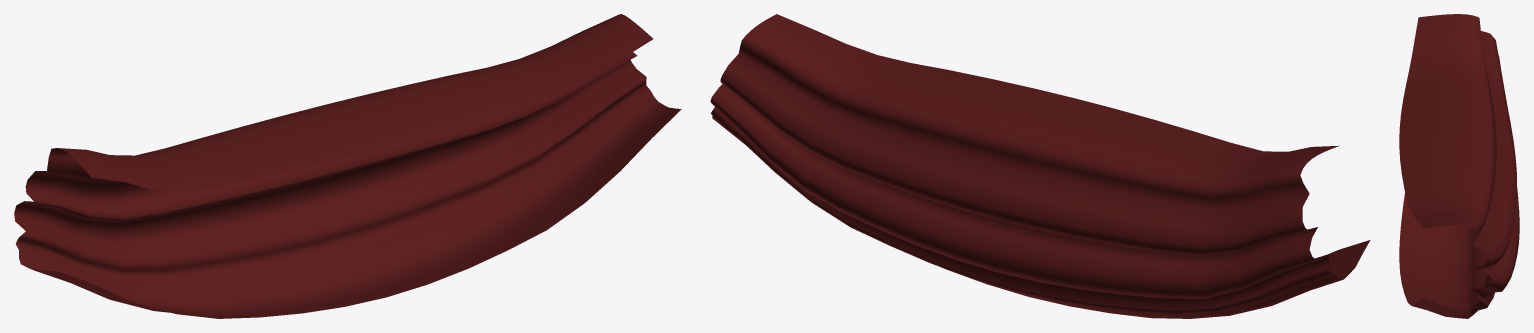
Rendered from ThroneRoom_Curtain_Horizontal.fbx.
3 renders of one model, left to right at view 1: azimuth 30°, elevation 25°; view 2: azimuth 150°, elevation 25°; view 3: azimuth 270°, elevation 25°, orthographic. The views are drawn at different scales.
Visible parts, largest first — view 1: ThroneRoom_Curtain_Horizontal; view 2: ThroneRoom_Curtain_Horizontal; view 3: ThroneRoom_Curtain_Horizontal.
Boxes of the visible parts, box(x1,y1,x2,y2) form: ThroneRoom_Curtain_Horizontal: box(14, 14, 681, 318); ThroneRoom_Curtain_Horizontal: box(710, 14, 1370, 318); ThroneRoom_Curtain_Horizontal: box(1399, 14, 1519, 318).
Bounding box in the file's own units: 7.24 × 2.21 × 1.56.
